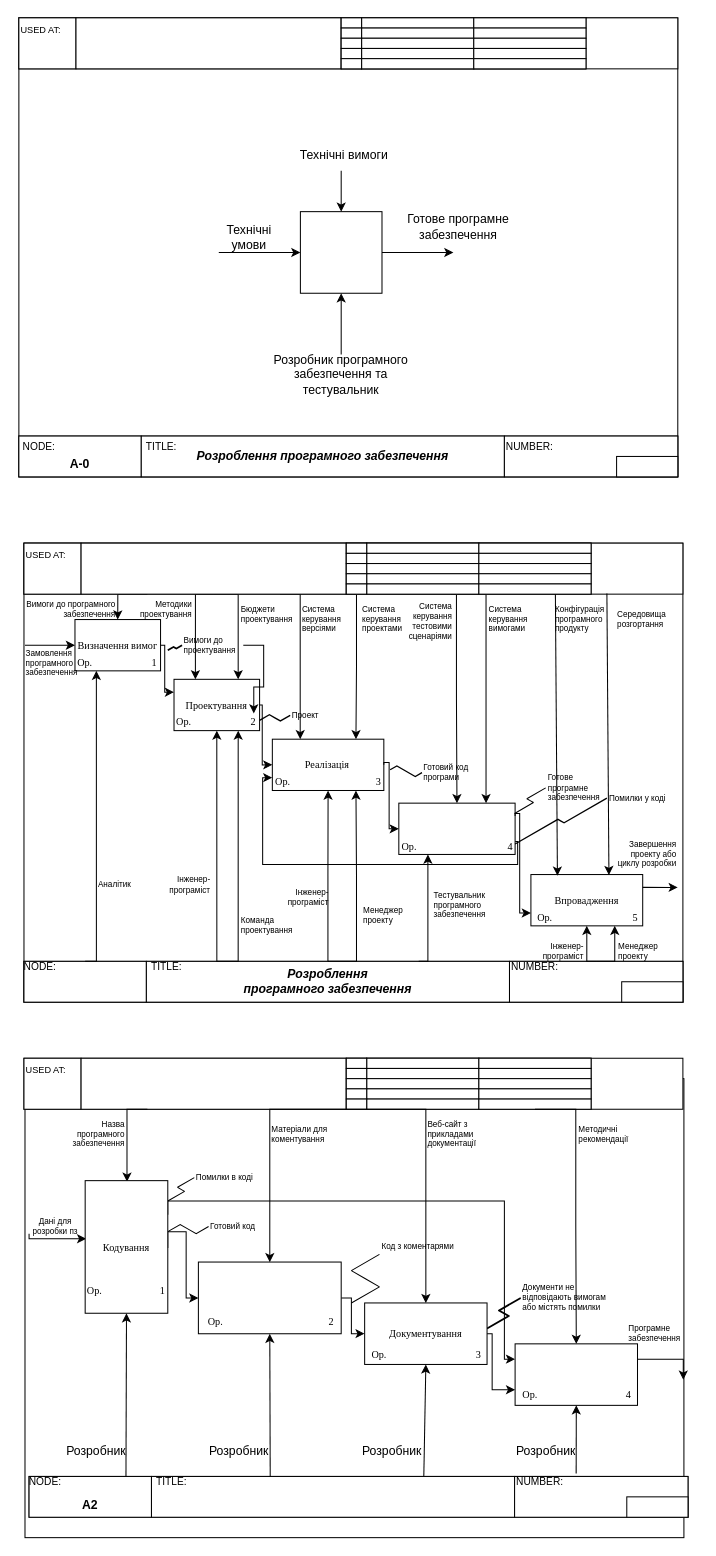
This 716x1556 diagram has some shape labels left out. Here are the shapes that lost their labels. From the top down, the box of each, then its label:
(299, 211, 382, 293): Розроблення програмного забезпечення А0
(398, 802, 515, 854): Тестування
(23, 960, 146, 1002): A1
(197, 1261, 341, 1334): Коментування
(514, 1343, 638, 1405): Налагодження
(150, 1475, 515, 1517): Реалізація програмного забезпечення
